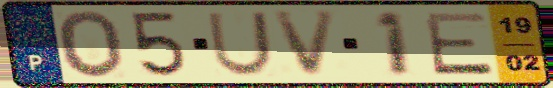1: (373, 9, 417, 79)
5: (128, 10, 189, 79)
E: (421, 10, 497, 77)
O: (54, 8, 128, 80)
U: (204, 10, 276, 78)
V: (270, 8, 342, 79)
